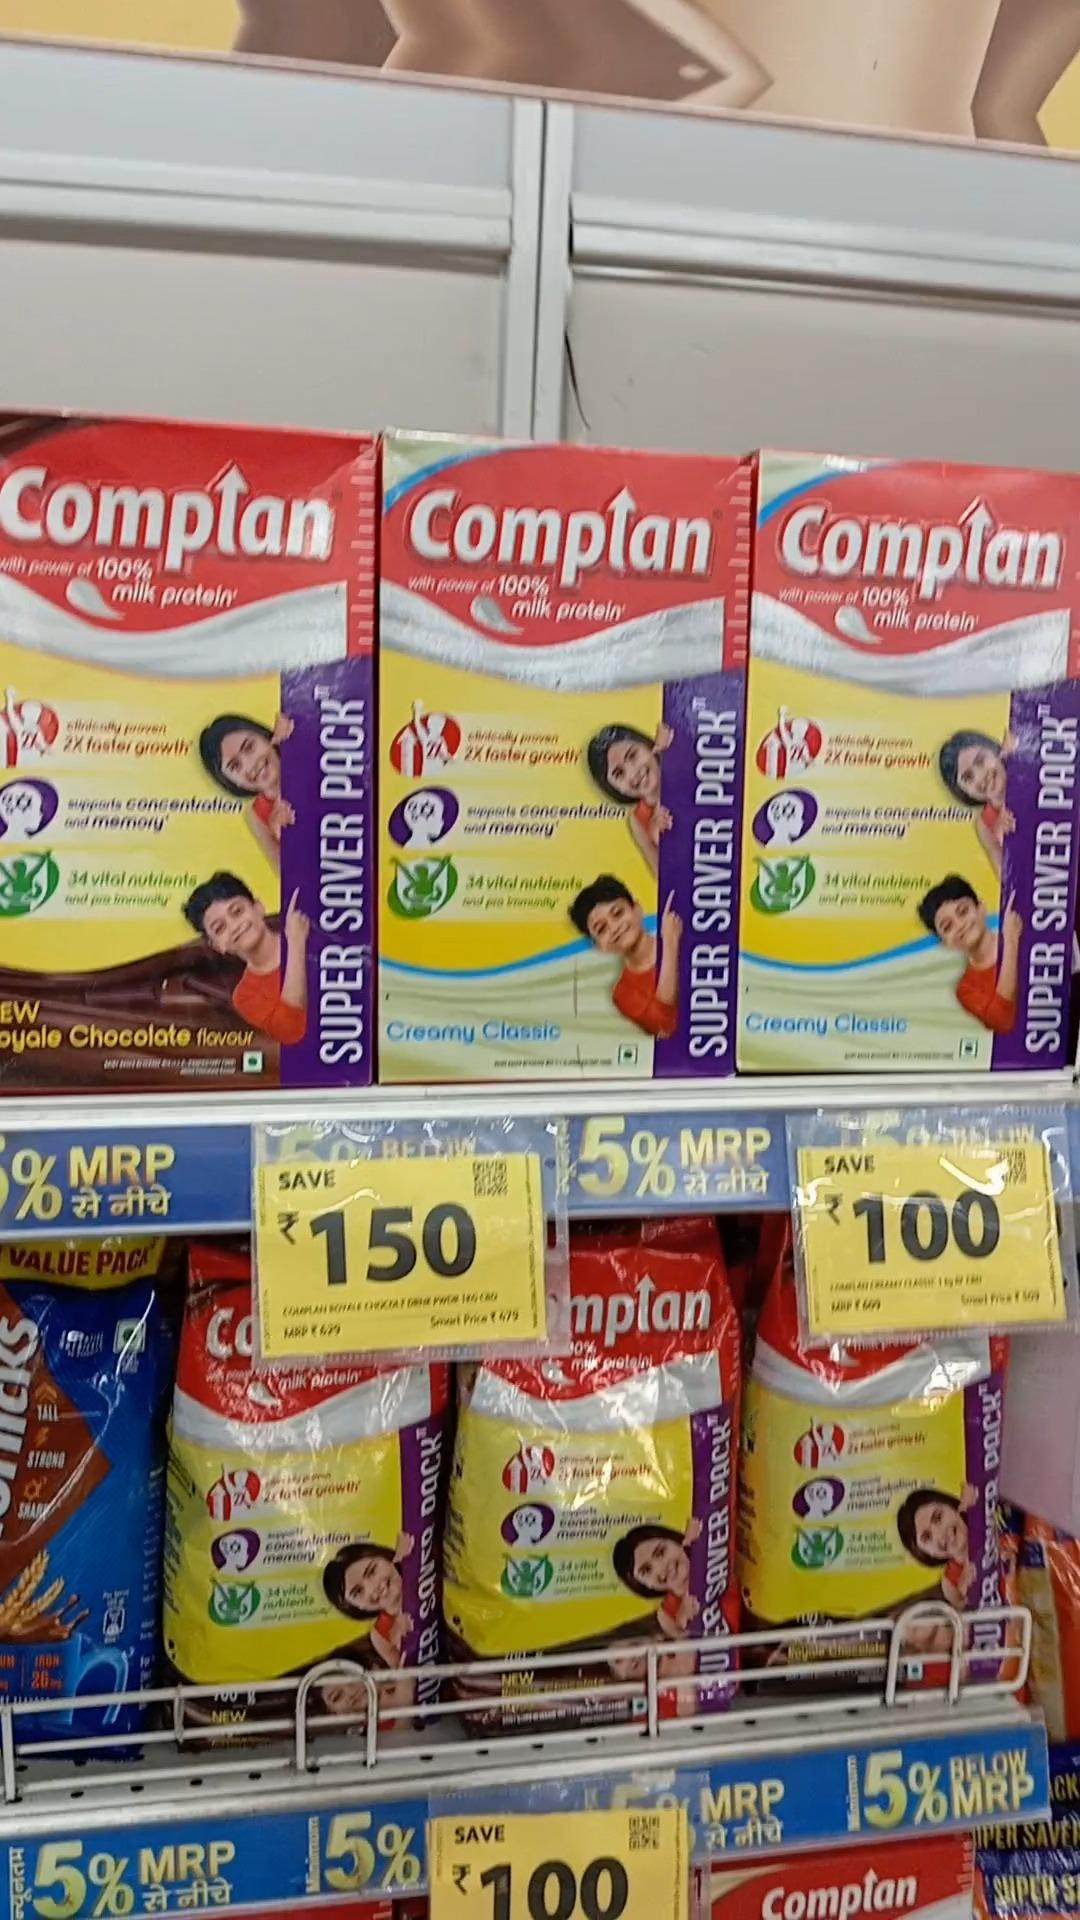COMPLAN_CHOCOLATE_1_KG_PACK: (0, 414, 369, 1088)
COMPLAN_RC_POUCH_700_GMS_12: (458, 1228, 744, 1731), (199, 1333, 450, 1755), (750, 1325, 1006, 1702)
HORLICK_CHOCOLATE_750_G_POUCH: (0, 1240, 171, 1747)
